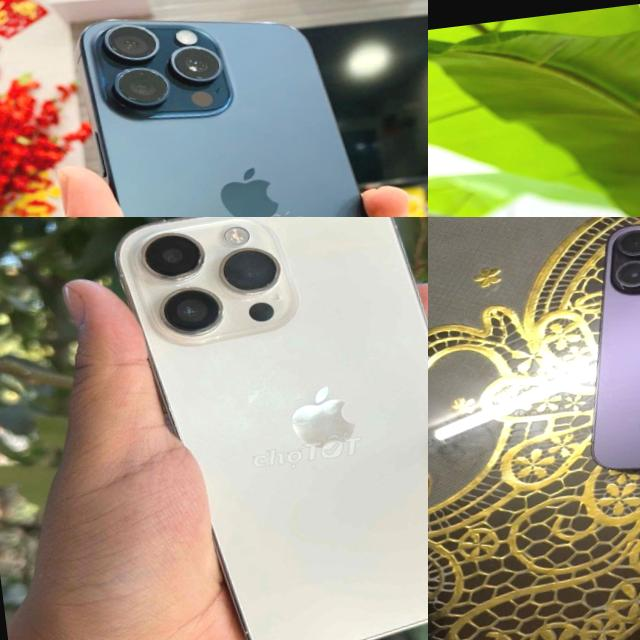gen_14: (103, 217, 428, 640), (553, 217, 640, 495), (432, 101, 640, 217)
gen_15: (63, 0, 428, 217)
